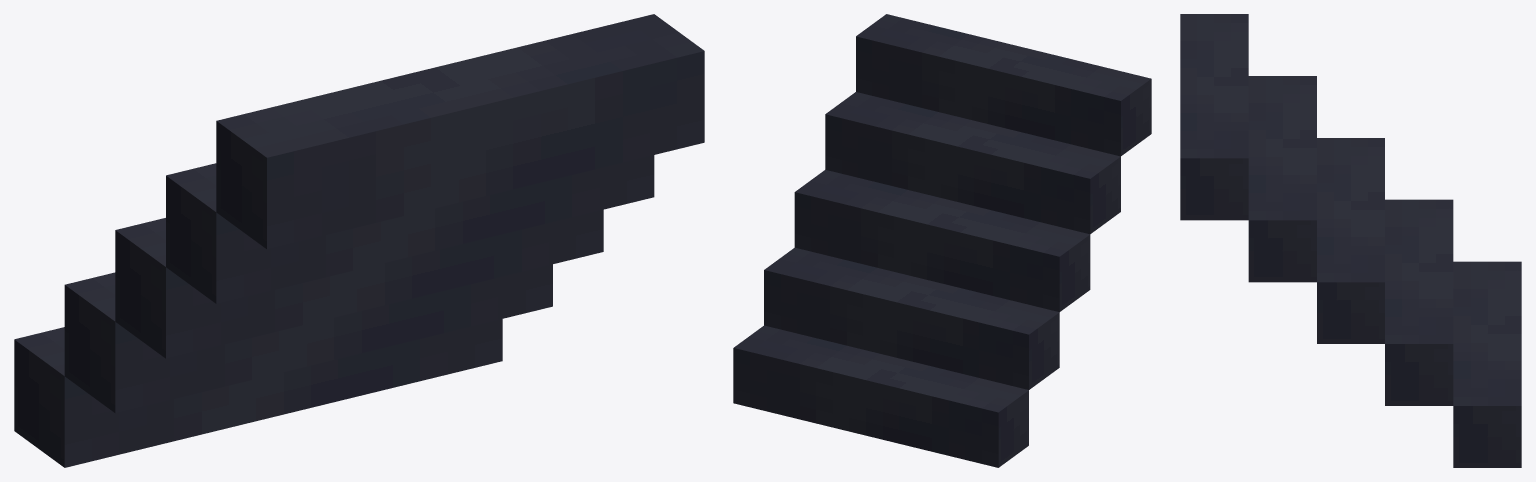
File: ramp.obj
3 views of the same model, side by side, from view 1: azimuth 30°, elevation 25°; view 2: azimuth 150°, elevation 25°; view 3: azimuth 270°, elevation 25° (orthographic). The views are drawn at different scales.
Parts seen in each view (by area): view 1: Cube.001_Cube.000; view 2: Cube.001_Cube.000; view 3: Cube.001_Cube.000.
Boxes of the visible parts, left/top/right/bottom form: Cube.001_Cube.000: left=14, top=14, right=704, bottom=467; Cube.001_Cube.000: left=733, top=14, right=1151, bottom=467; Cube.001_Cube.000: left=1180, top=14, right=1521, bottom=467.
Size of the model in its own units: 1 by 1 by 1.
